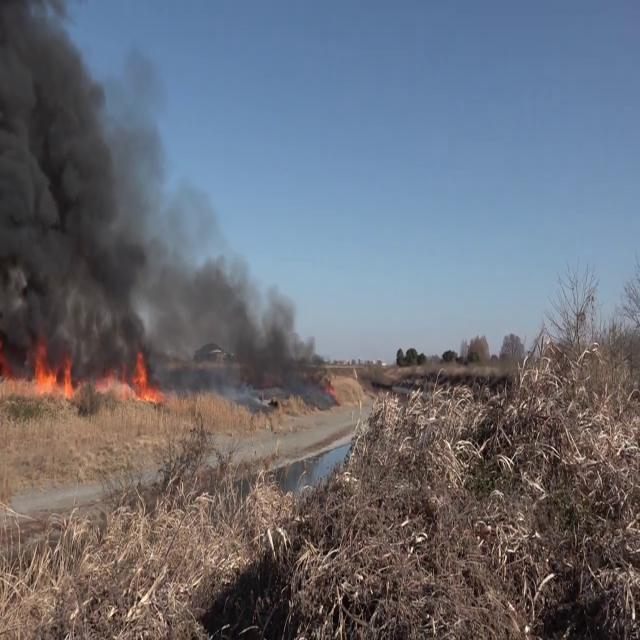Fire: (0, 332, 77, 400), (91, 345, 167, 403)
Smoke: (0, 1, 165, 363), (164, 215, 334, 389)
